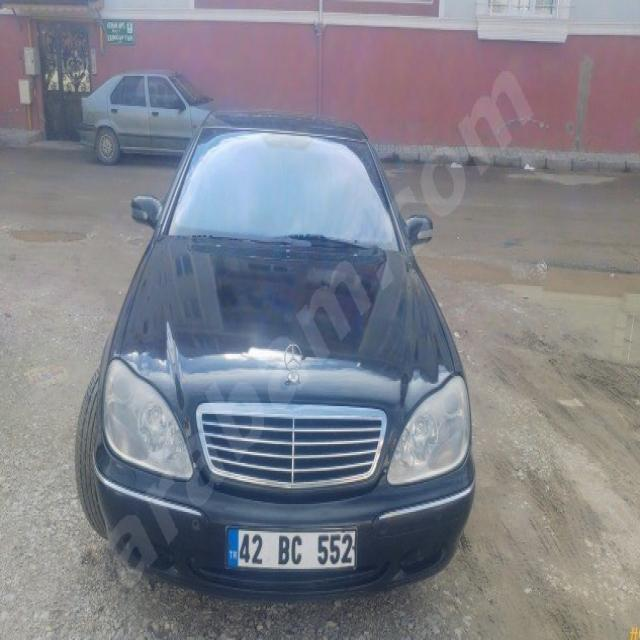license_plate: (226, 527, 357, 571)
